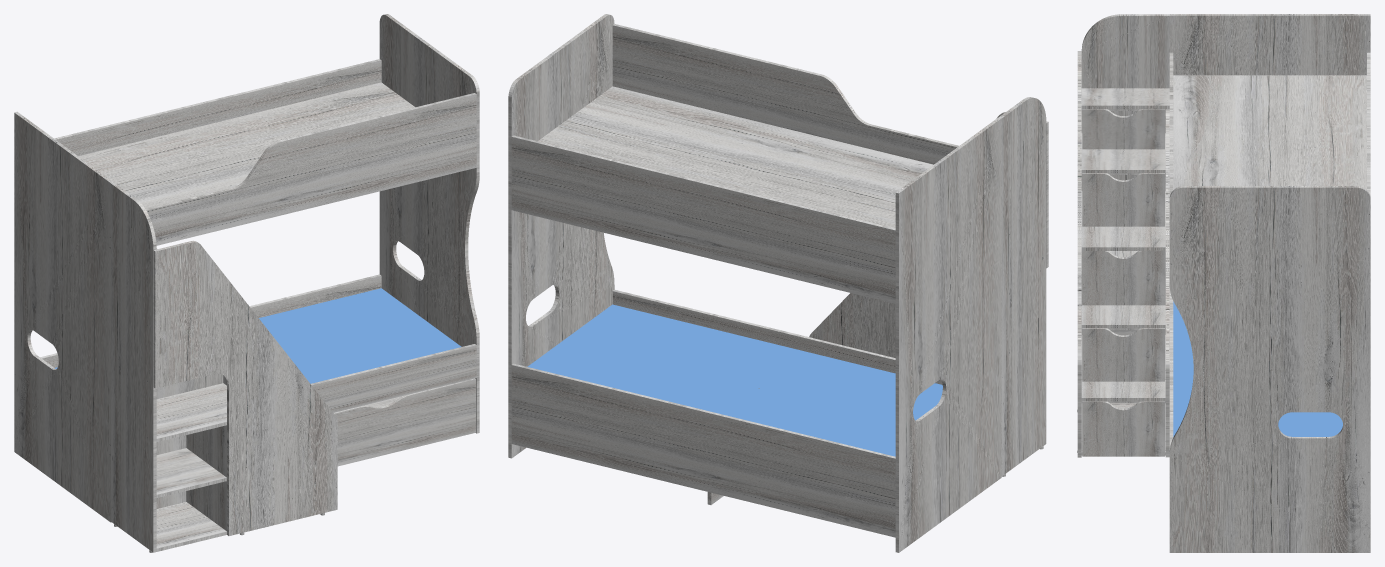
The picture shows the model from 3 angles, left to right: view 1: azimuth 30°, elevation 25°; view 2: azimuth 150°, elevation 25°; view 3: azimuth 270°, elevation 25°; orthographic projection. The views are drawn at different scales.
Parts seen in each view (by area): view 1: node_0037, node_0014, node_0033, node_0038, node_0013, node_0044, node_0039, node_0054, node_0060, node_0052, node_0010, node_0005 (+4 smaller); view 2: node_0037, node_0053, node_0054, node_0039, node_0044, node_0038, node_0033, node_0013, node_0052, node_0015; view 3: node_0038, node_0044, node_0037, node_0013, node_0021, node_0017, node_0018, node_0020, node_0039, node_0019, node_0008, node_0010 (+8 smaller).
Boxes of the visible parts, x1=… form: node_0037: x1=14, y1=111, x2=113, y2=522; node_0014: x1=153, y1=240, x2=337, y2=535; node_0033: x1=145, y1=93, x2=476, y2=245; node_0038: x1=379, y1=14, x2=479, y2=433; node_0013: x1=111, y1=183, x2=156, y2=552; node_0044: x1=78, y1=82, x2=414, y2=208; node_0039: x1=55, y1=288, x2=461, y2=383; node_0054: x1=54, y1=59, x2=381, y2=156; node_0060: x1=334, y1=378, x2=475, y2=466; node_0052: x1=311, y1=344, x2=476, y2=412; node_0010: x1=156, y1=383, x2=226, y2=442; node_0005: x1=186, y1=425, x2=226, y2=530; node_0037: x1=895, y1=117, x2=1001, y2=552; node_0053: x1=511, y1=363, x2=895, y2=537; node_0054: x1=511, y1=135, x2=895, y2=303; node_0039: x1=527, y1=304, x2=942, y2=456; node_0044: x1=538, y1=86, x2=933, y2=228; node_0038: x1=508, y1=14, x2=614, y2=458; node_0033: x1=612, y1=24, x2=958, y2=164; node_0013: x1=999, y1=97, x2=1046, y2=476; node_0052: x1=612, y1=289, x2=942, y2=384; node_0015: x1=809, y1=293, x2=895, y2=357; node_0038: x1=1169, y1=186, x2=1370, y2=552; node_0044: x1=1173, y1=75, x2=1366, y2=189; node_0037: x1=1169, y1=14, x2=1370, y2=75; node_0013: x1=1081, y1=14, x2=1169, y2=191; node_0021: x1=1081, y1=251, x2=1165, y2=305; node_0017: x1=1082, y1=401, x2=1164, y2=456; node_0018: x1=1082, y1=328, x2=1164, y2=381; node_0020: x1=1082, y1=173, x2=1164, y2=226; node_0039: x1=1173, y1=301, x2=1342, y2=436; node_0019: x1=1082, y1=109, x2=1164, y2=149; node_0008: x1=1081, y1=191, x2=1165, y2=250; node_0010: x1=1081, y1=251, x2=1165, y2=328.
Size of the model in its own units: 1.84 by 1.68 by 1.22.
4 materials, 1 textured.
